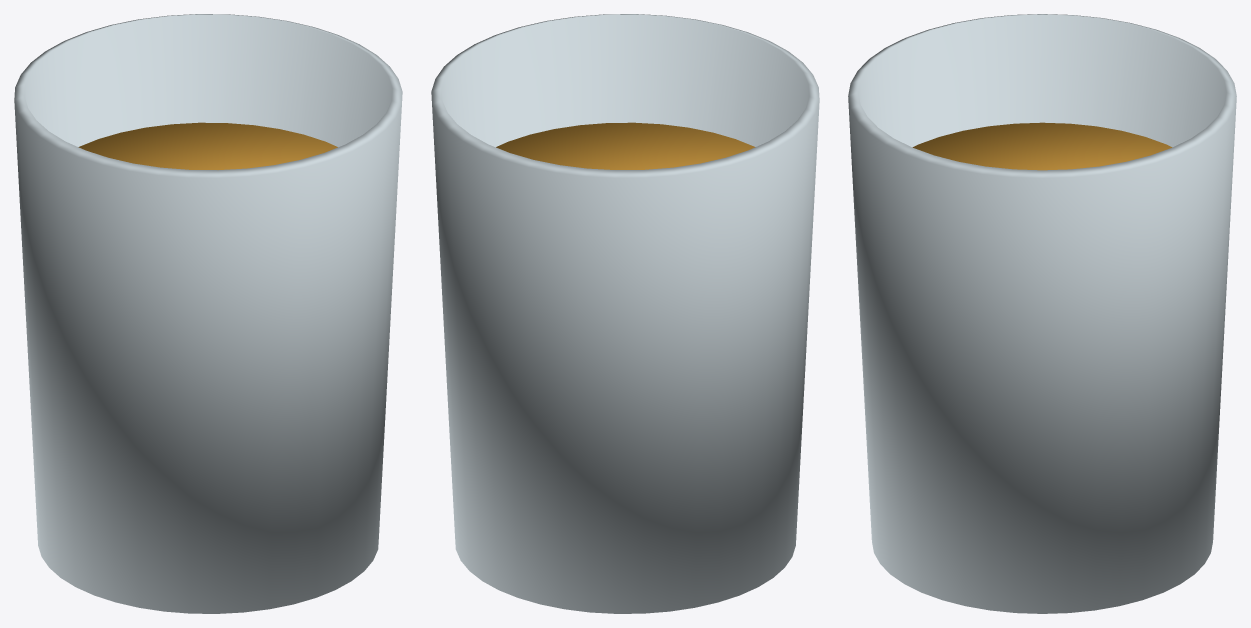
Rendered from shot.glb.
3 renders of one model, left to right at view 1: azimuth 30°, elevation 25°; view 2: azimuth 150°, elevation 25°; view 3: azimuth 270°, elevation 25°, orthographic.
Parts seen in each view (by area): view 1: shotmesh; view 2: shotmesh; view 3: shotmesh.
Boxes of the visible parts, bbox=[...] form: shotmesh: bbox=[14, 14, 402, 613]; shotmesh: bbox=[431, 14, 819, 613]; shotmesh: bbox=[848, 14, 1236, 613].
Size of the model in its own units: 0.049 by 0.0625 by 0.049.
